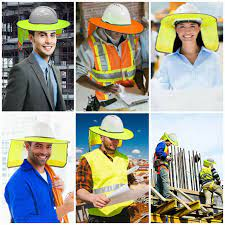Helmet: (92, 4, 146, 37), (18, 6, 65, 35), (165, 7, 216, 25), (97, 114, 129, 138)
Jacket: (84, 150, 137, 219), (88, 33, 137, 98)
No-jacket: (9, 165, 67, 224)
